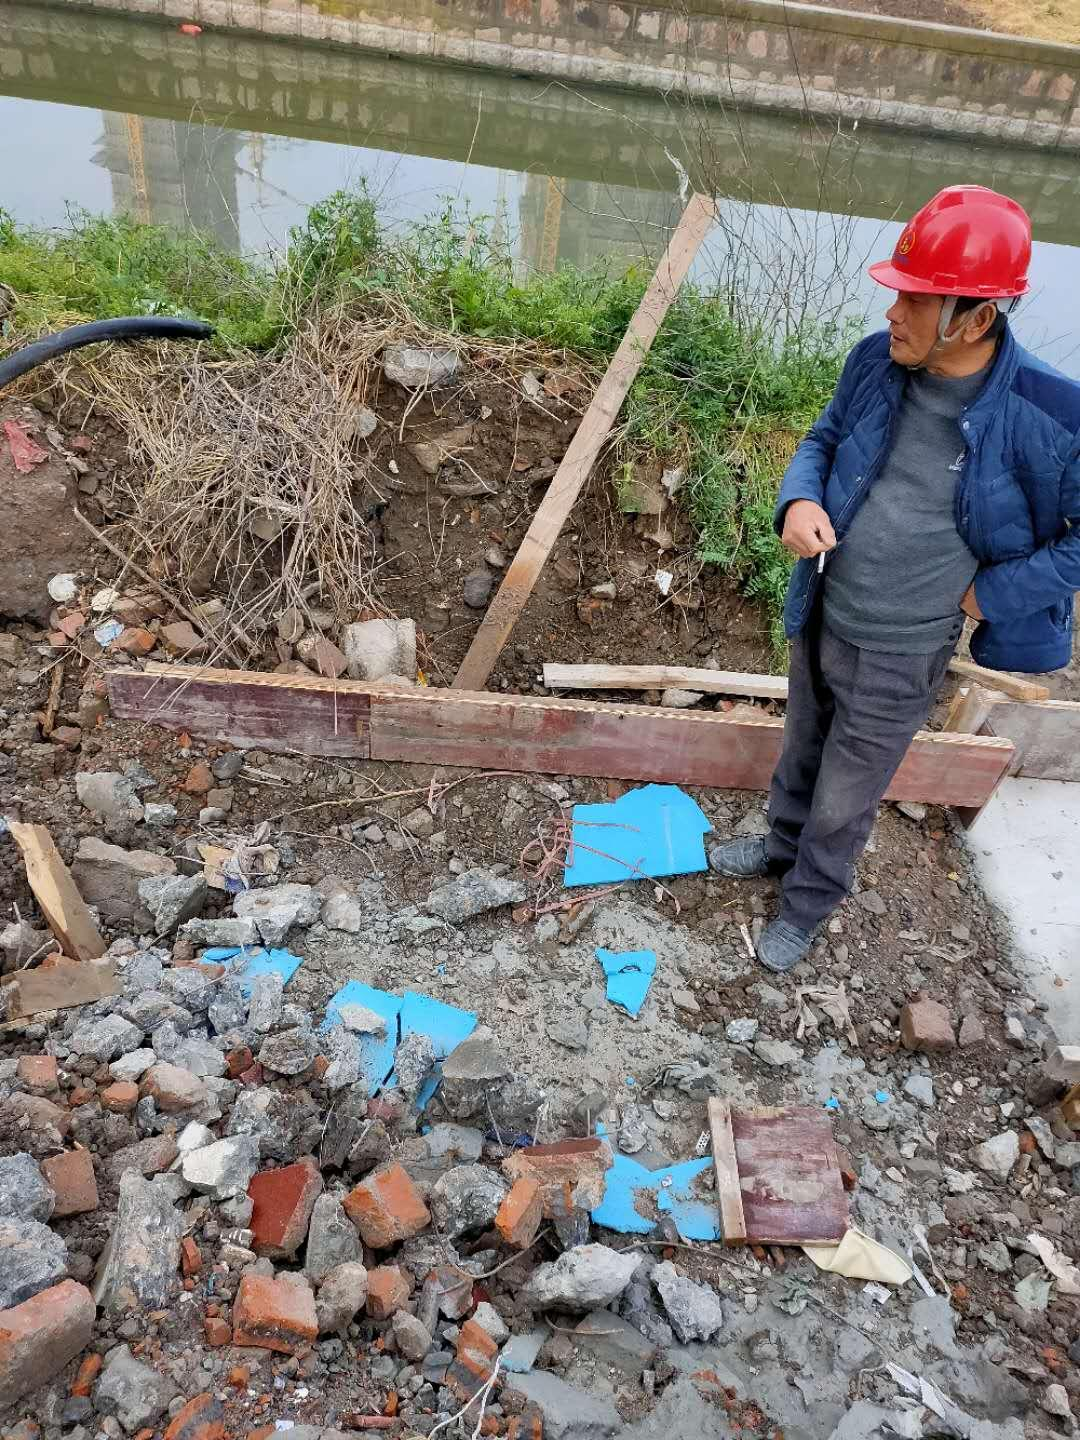Cigarette: (727, 186, 1080, 969), (817, 544, 827, 574)
